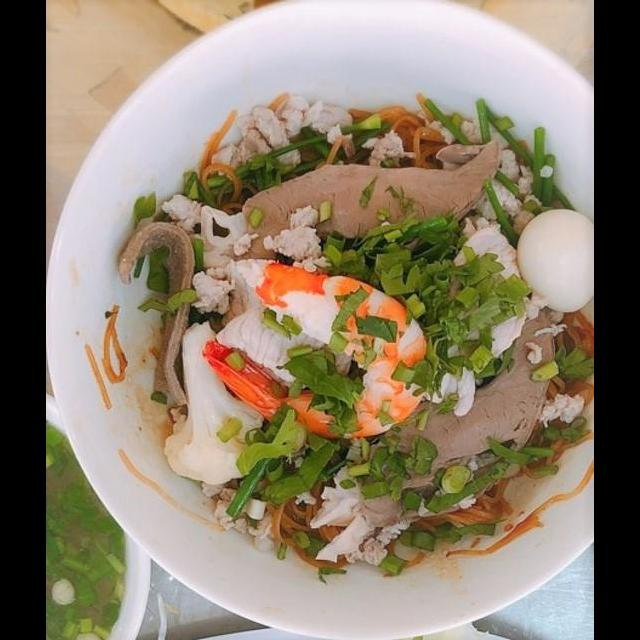gan: (216, 134, 507, 331), (343, 296, 567, 537)
hu tieu: (511, 304, 594, 483), (243, 470, 359, 580), (332, 87, 467, 181), (411, 463, 535, 543), (188, 101, 261, 224)
thit bam: (194, 93, 421, 176), (171, 228, 263, 322), (194, 472, 287, 556), (255, 199, 341, 281)
thit heo: (185, 253, 365, 393), (432, 216, 547, 421)
tom: (193, 255, 433, 445)
trung: (511, 204, 594, 317)
